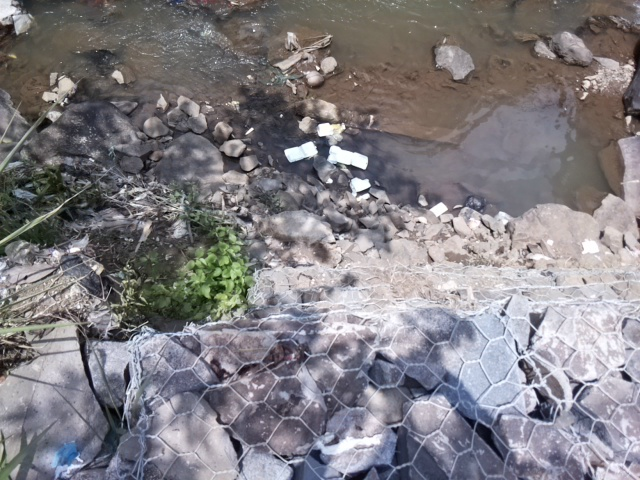Sampah_Plastik: (466, 195, 486, 212)
Sampah_Styrofoam: (326, 144, 372, 172), (282, 140, 317, 164), (348, 174, 372, 194), (430, 201, 450, 219), (316, 120, 334, 138)
